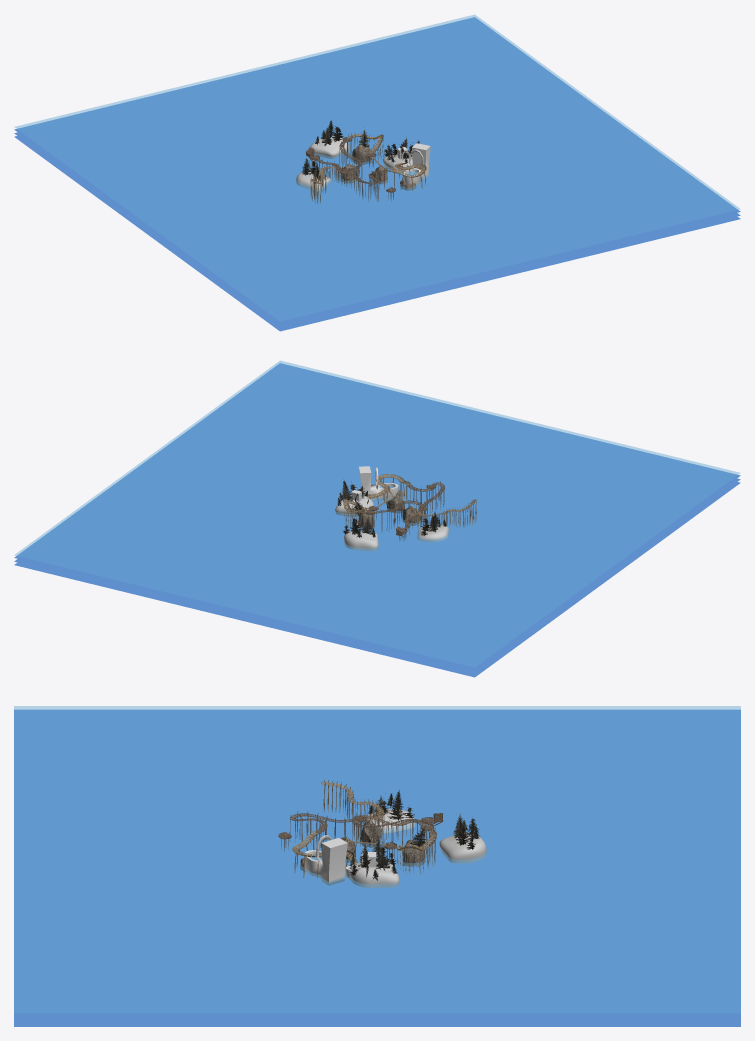
The model's file is fase02.fbx.
3 views of the same model, one above another, from view 1: azimuth 30°, elevation 25°; view 2: azimuth 150°, elevation 25°; view 3: azimuth 270°, elevation 25° (orthographic). The views are drawn at different scales.
Visible parts, largest first — view 1: Plane.003, Plane.004, Plane.005, Plane.006, Cube.002, Cylinder.004, Cylinder.002, Cylinder.001, Sphere; view 2: Plane.003, Plane.004, Plane.005, Plane.006, Cube.002, Cylinder.002, Cylinder.004, Sphere, Cylinder.001; view 3: Plane.003, Plane.004, Plane.005, Plane.006, Cube.002, Sphere, Cylinder.002, Sphere.002, Cylinder.004, Cylinder.001, Cylinder.010, Sphere.001 (+2 smaller).
Part boxes in pixels (x1,y1,x2,y2): Plane.003: (14, 14, 740, 321); Plane.004: (14, 17, 740, 324); Plane.005: (14, 132, 740, 327); Plane.006: (14, 136, 740, 331); Cube.002: (403, 143, 430, 186); Cylinder.004: (316, 141, 362, 184); Cylinder.002: (310, 165, 342, 204); Cylinder.001: (346, 168, 390, 201); Sphere: (308, 136, 348, 158); Plane.003: (14, 360, 740, 667); Plane.004: (14, 363, 740, 670); Plane.005: (14, 478, 740, 673); Plane.006: (14, 482, 740, 677); Cube.002: (359, 466, 398, 500); Cylinder.002: (417, 499, 476, 527); Cylinder.004: (375, 500, 424, 538); Sphere: (344, 531, 378, 550); Cylinder.001: (407, 481, 444, 518); Plane.003: (14, 706, 740, 1013); Plane.004: (14, 709, 740, 1016); Plane.005: (14, 1017, 740, 1021); Plane.006: (14, 1022, 740, 1026); Cube.002: (304, 835, 347, 885); Sphere: (439, 832, 486, 863); Cylinder.002: (321, 779, 384, 834); Sphere.002: (350, 861, 399, 887); Cylinder.004: (352, 813, 426, 850); Cylinder.001: (289, 811, 354, 850); Cylinder.010: (394, 825, 436, 875); Sphere.001: (362, 809, 415, 833).
Bounding box in the file's own units: 35387 × 4279 × 35387.
